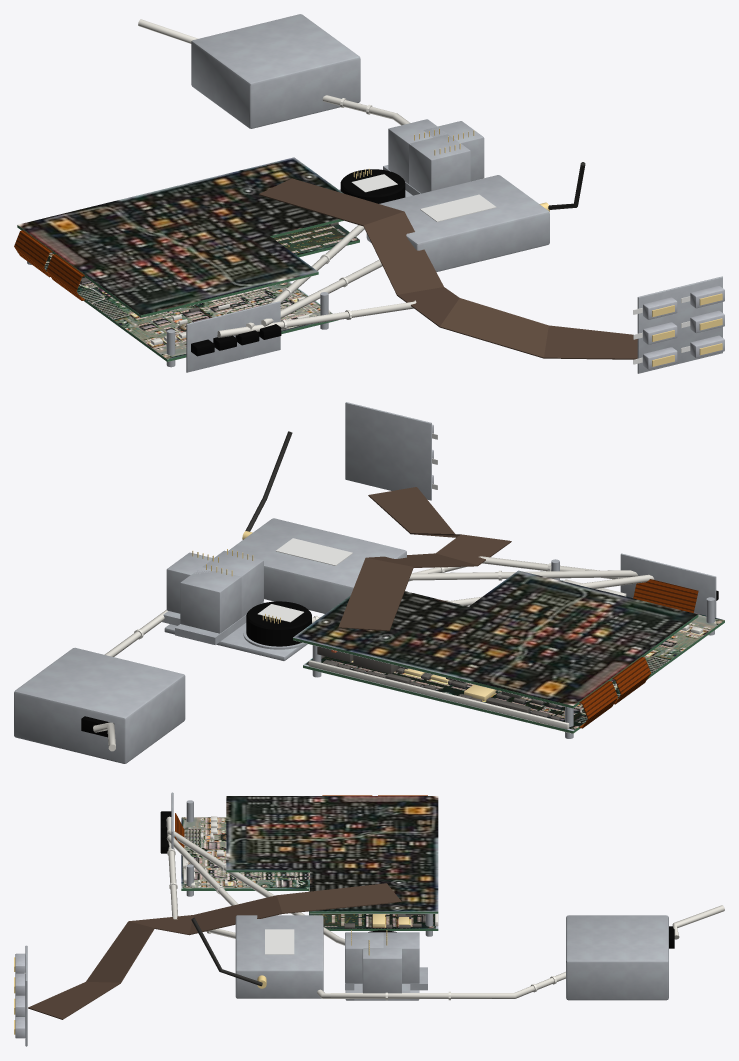
Rendered from sojourner-avionics.glb.
3 views of the same model, one above another, from view 1: azimuth 30°, elevation 25°; view 2: azimuth 150°, elevation 25°; view 3: azimuth 270°, elevation 25° (orthographic). The views are drawn at different scales.
Parts seen in each view (by area): view 1: POWER_BOARD__POWER_BOARD_TOP_documented_photographic_face, APXS_ELECTRONICS__AL_CLEAR_ANODIZE, EXTERNAL_FLEX_10159526__POLYIMIDE_FLEX_BLACK_COVER, UHF_RADIO_MODEM__AL_CLEAR_ANODIZE, CPU_IO_BOARD__CPU_IO_BOARD_TOP_documented_photographic_face, INTERIOR_CABLING__PTFE_CABLE_WHITE, EXTERNAL_BULKHEAD__AL_CLEAR_ANODIZE, INTERNAL_BULKHEAD__AL_CLEAR_ANODIZE, LSMP2_ACCEL_Y__AL_CLEAR_ANODIZE, EXTERNAL_BULKHEAD__AL_MACHINED_EDGE, INTERBOARD_FLEX_10159701__POLYIMIDE_FLEX, LSMP2_ACCEL_X__AL_CLEAR_ANODIZE (+8 smaller); view 2: POWER_BOARD__POWER_BOARD_TOP_documented_photographic_face, APXS_ELECTRONICS__AL_CLEAR_ANODIZE, EXTERNAL_FLEX_10159526__POLYIMIDE_FLEX_BLACK_COVER, UHF_RADIO_MODEM__AL_CLEAR_ANODIZE, EXTERNAL_BULKHEAD__AL_CLEAR_ANODIZE, LSMP2_ACCEL_X__AL_CLEAR_ANODIZE, INTERIOR_CABLING__PTFE_CABLE_WHITE, CPU_IO_BOARD__CPU_IO_BOARD_TOP_documented_photographic_face, INTERNAL_BULKHEAD__AL_CLEAR_ANODIZE, CPU_IO_BOARD_CREAM_PARTS__CERAMIC_WHITE_PACKAGE, QRS11_RATE_GYRO__AL_BLACK_ANODIZE, LSMP2_ACCEL_Y__AL_CLEAR_ANODIZE (+10 smaller); view 3: POWER_BOARD__POWER_BOARD_TOP_documented_photographic_face, APXS_ELECTRONICS__AL_CLEAR_ANODIZE, EXTERNAL_FLEX_10159526__POLYIMIDE_FLEX_BLACK_COVER, UHF_RADIO_MODEM__AL_CLEAR_ANODIZE, CPU_IO_BOARD__CPU_IO_BOARD_TOP_documented_photographic_face, INTERIOR_CABLING__PTFE_CABLE_WHITE, LSMP2_ACCEL_Z__AL_CLEAR_ANODIZE, LSMP2_ACCEL_X__AL_CLEAR_ANODIZE, LSMP2_ACCEL_Y__AL_CLEAR_ANODIZE, EXTERNAL_BULKHEAD__AL_MACHINED_EDGE, UHF_RADIO_MODEM__ENGRAVED_LABEL_WHITE, POWER_BOARD__PCB_SOLDERMASK_GREEN (+5 smaller).
Part boxes in pixels (x1,y1,x2,y2): POWER_BOARD__POWER_BOARD_TOP_documented_photographic_face: [17, 157, 343, 315]; APXS_ELECTRONICS__AL_CLEAR_ANODIZE: [191, 14, 360, 128]; EXTERNAL_FLEX_10159526__POLYIMIDE_FLEX_BLACK_COVER: [258, 178, 637, 359]; UHF_RADIO_MODEM__AL_CLEAR_ANODIZE: [366, 175, 549, 271]; CPU_IO_BOARD__CPU_IO_BOARD_TOP_documented_photographic_face: [44, 224, 359, 359]; INTERIOR_CABLING__PTFE_CABLE_WHITE: [217, 95, 484, 337]; EXTERNAL_BULKHEAD__AL_CLEAR_ANODIZE: [637, 276, 722, 373]; INTERNAL_BULKHEAD__AL_CLEAR_ANODIZE: [186, 301, 280, 372]; LSMP2_ACCEL_Y__AL_CLEAR_ANODIZE: [408, 134, 470, 195]; EXTERNAL_BULKHEAD__AL_MACHINED_EDGE: [643, 286, 724, 369]; INTERBOARD_FLEX_10159701__POLYIMIDE_FLEX: [14, 230, 84, 300]; LSMP2_ACCEL_X__AL_CLEAR_ANODIZE: [383, 119, 446, 191]; POWER_BOARD__POWER_BOARD_TOP_documented_photographic_face: [293, 570, 697, 705]; APXS_ELECTRONICS__AL_CLEAR_ANODIZE: [14, 647, 185, 763]; EXTERNAL_FLEX_10159526__POLYIMIDE_FLEX_BLACK_COVER: [338, 487, 511, 631]; UHF_RADIO_MODEM__AL_CLEAR_ANODIZE: [228, 518, 406, 613]; EXTERNAL_BULKHEAD__AL_CLEAR_ANODIZE: [345, 402, 431, 500]; LSMP2_ACCEL_X__AL_CLEAR_ANODIZE: [175, 570, 242, 644]; INTERIOR_CABLING__PTFE_CABLE_WHITE: [104, 556, 654, 656]; CPU_IO_BOARD__CPU_IO_BOARD_TOP_documented_photographic_face: [303, 580, 724, 730]; INTERNAL_BULKHEAD__AL_CLEAR_ANODIZE: [620, 553, 716, 617]; CPU_IO_BOARD_CREAM_PARTS__CERAMIC_WHITE_PACKAGE: [308, 579, 702, 729]; QRS11_RATE_GYRO__AL_BLACK_ANODIZE: [246, 601, 311, 646]; LSMP2_ACCEL_Y__AL_CLEAR_ANODIZE: [202, 550, 264, 625]; POWER_BOARD__POWER_BOARD_TOP_documented_photographic_face: [226, 796, 438, 911]; APXS_ELECTRONICS__AL_CLEAR_ANODIZE: [566, 915, 668, 1000]; EXTERNAL_FLEX_10159526__POLYIMIDE_FLEX_BLACK_COVER: [28, 883, 401, 1019]; UHF_RADIO_MODEM__AL_CLEAR_ANODIZE: [235, 915, 323, 998]; CPU_IO_BOARD__CPU_IO_BOARD_TOP_documented_photographic_face: [181, 817, 438, 928]; INTERIOR_CABLING__PTFE_CABLE_WHITE: [166, 816, 565, 998]; LSMP2_ACCEL_Z__AL_CLEAR_ANODIZE: [354, 948, 410, 1000]; LSMP2_ACCEL_X__AL_CLEAR_ANODIZE: [383, 932, 427, 990]; LSMP2_ACCEL_Y__AL_CLEAR_ANODIZE: [345, 932, 383, 990]; EXTERNAL_BULKHEAD__AL_MACHINED_EDGE: [15, 953, 25, 1038]; UHF_RADIO_MODEM__ENGRAVED_LABEL_WHITE: [265, 929, 294, 954]; POWER_BOARD__PCB_SOLDERMASK_GREEN: [226, 870, 438, 913].
Bounding box in the file's own units: 0.3194 × 0.0832 × 0.4839.
Materials: 19 (10 with a texture image).
